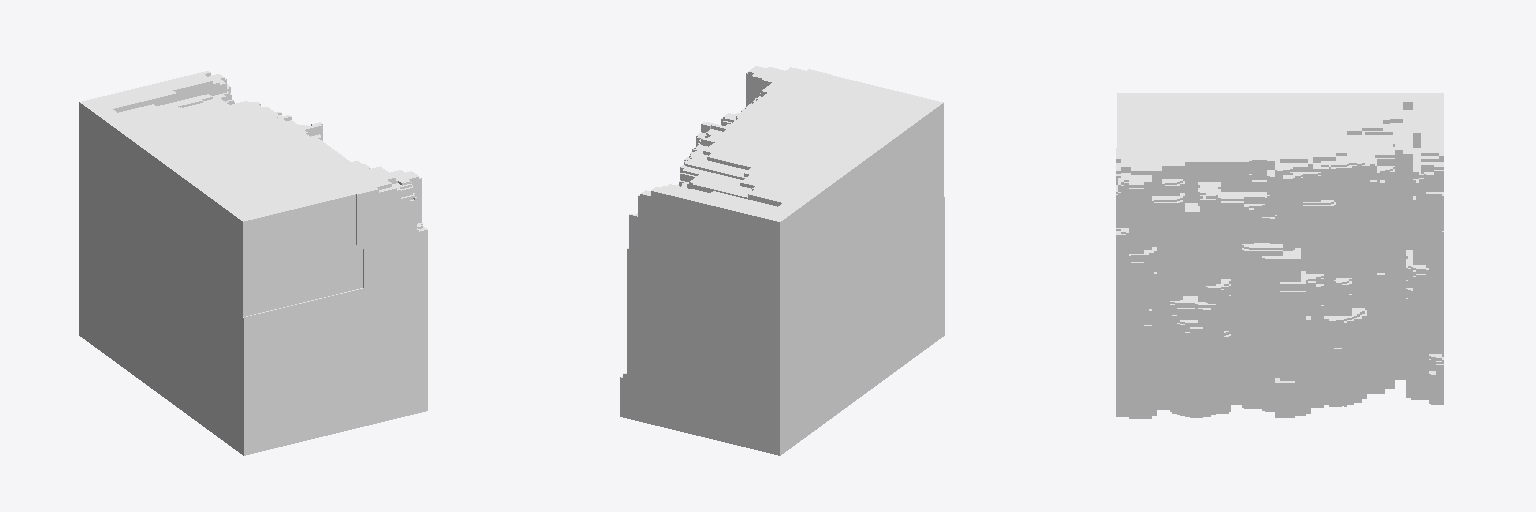
Rendered from forest1.1-139.obj.
The picture shows the model from 3 angles: view 1: azimuth 30°, elevation 25°; view 2: azimuth 150°, elevation 25°; view 3: azimuth 270°, elevation 25°; orthographic projection.
Parts seen in each view (by area): view 1: object 1; view 2: object 1; view 3: object 1.
Boxes of the visible parts, box(x1,y1,x2,y2) form: object 1: box(79, 71, 427, 455); object 1: box(620, 66, 944, 455); object 1: box(1116, 93, 1443, 418).
Bounding box in the file's own units: 17 × 20.1 × 25.6.